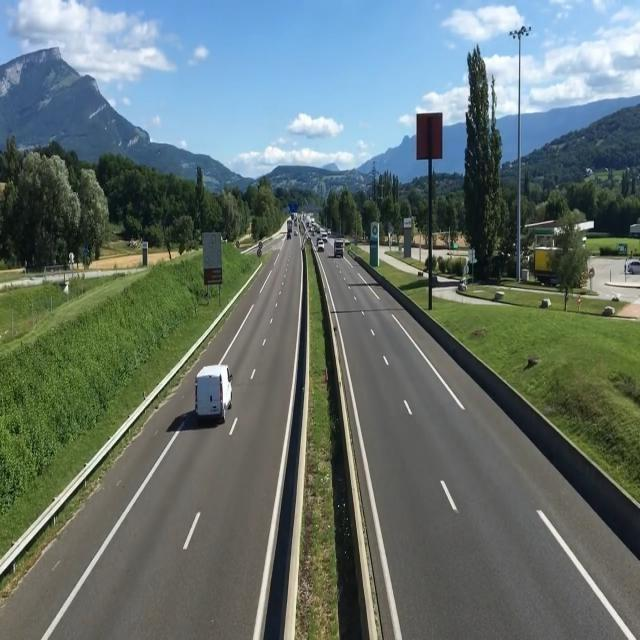Truck: (333, 238, 344, 258)
Van: (194, 363, 234, 426), (318, 239, 324, 253)
